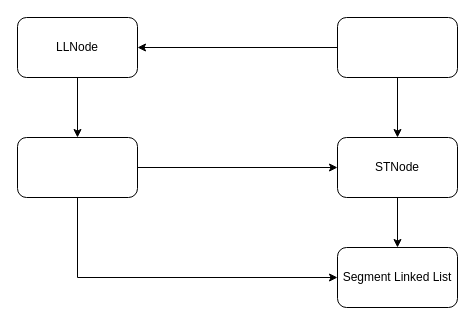
This 475x325 diagram has some shape labels left out. The centre of each missing label's shape, as x and y in pixels:
Linked List: (x=77, y=167)
Node: (x=397, y=47)
